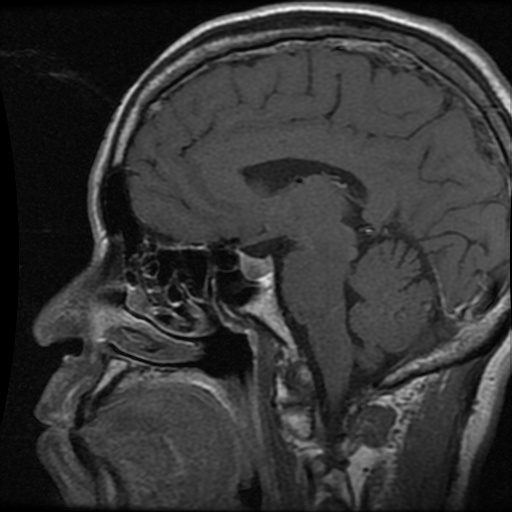pituitary: (240, 256, 274, 279)
